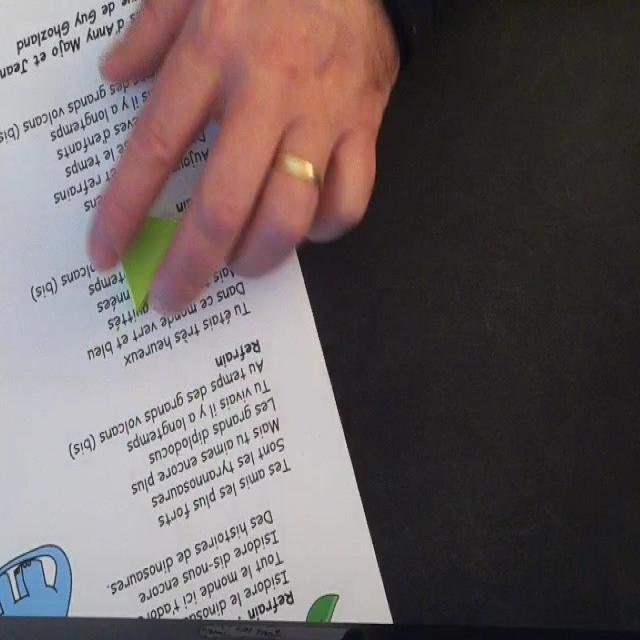triangle: (95, 205, 189, 314)
